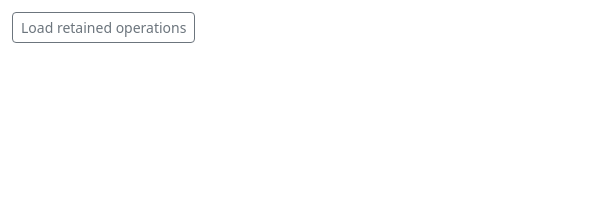
Scenario: Release original-operation recovery after closing or reloading the form › resumes only the retained prepared maintenance ID without reselecting an artifact or preparing another action
The width and height of the screenshot is (607, 204).
Click the button "Load retained operations" at (104, 28), box [12,12,196,43]
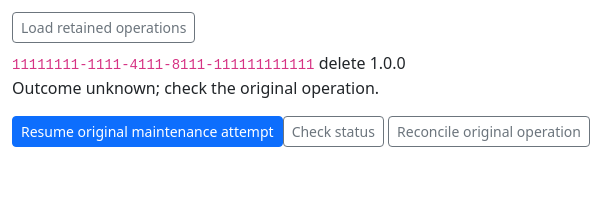
Check: the text "11111111-1111-4111-8111-111111111111" is shown, box [12,57,314,73]
Click the button "Resume original maintenance attempt" at (147, 132), box [12,116,283,147]
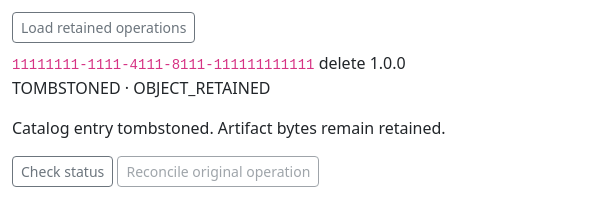
Check: the text "Catalog entry tombstoned. Artifact bytes remain retained." is shown, box [12,117,446,139]
